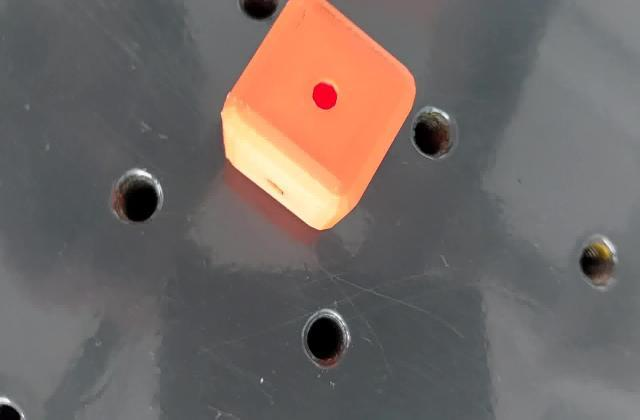cube: (214, 2, 420, 234)
